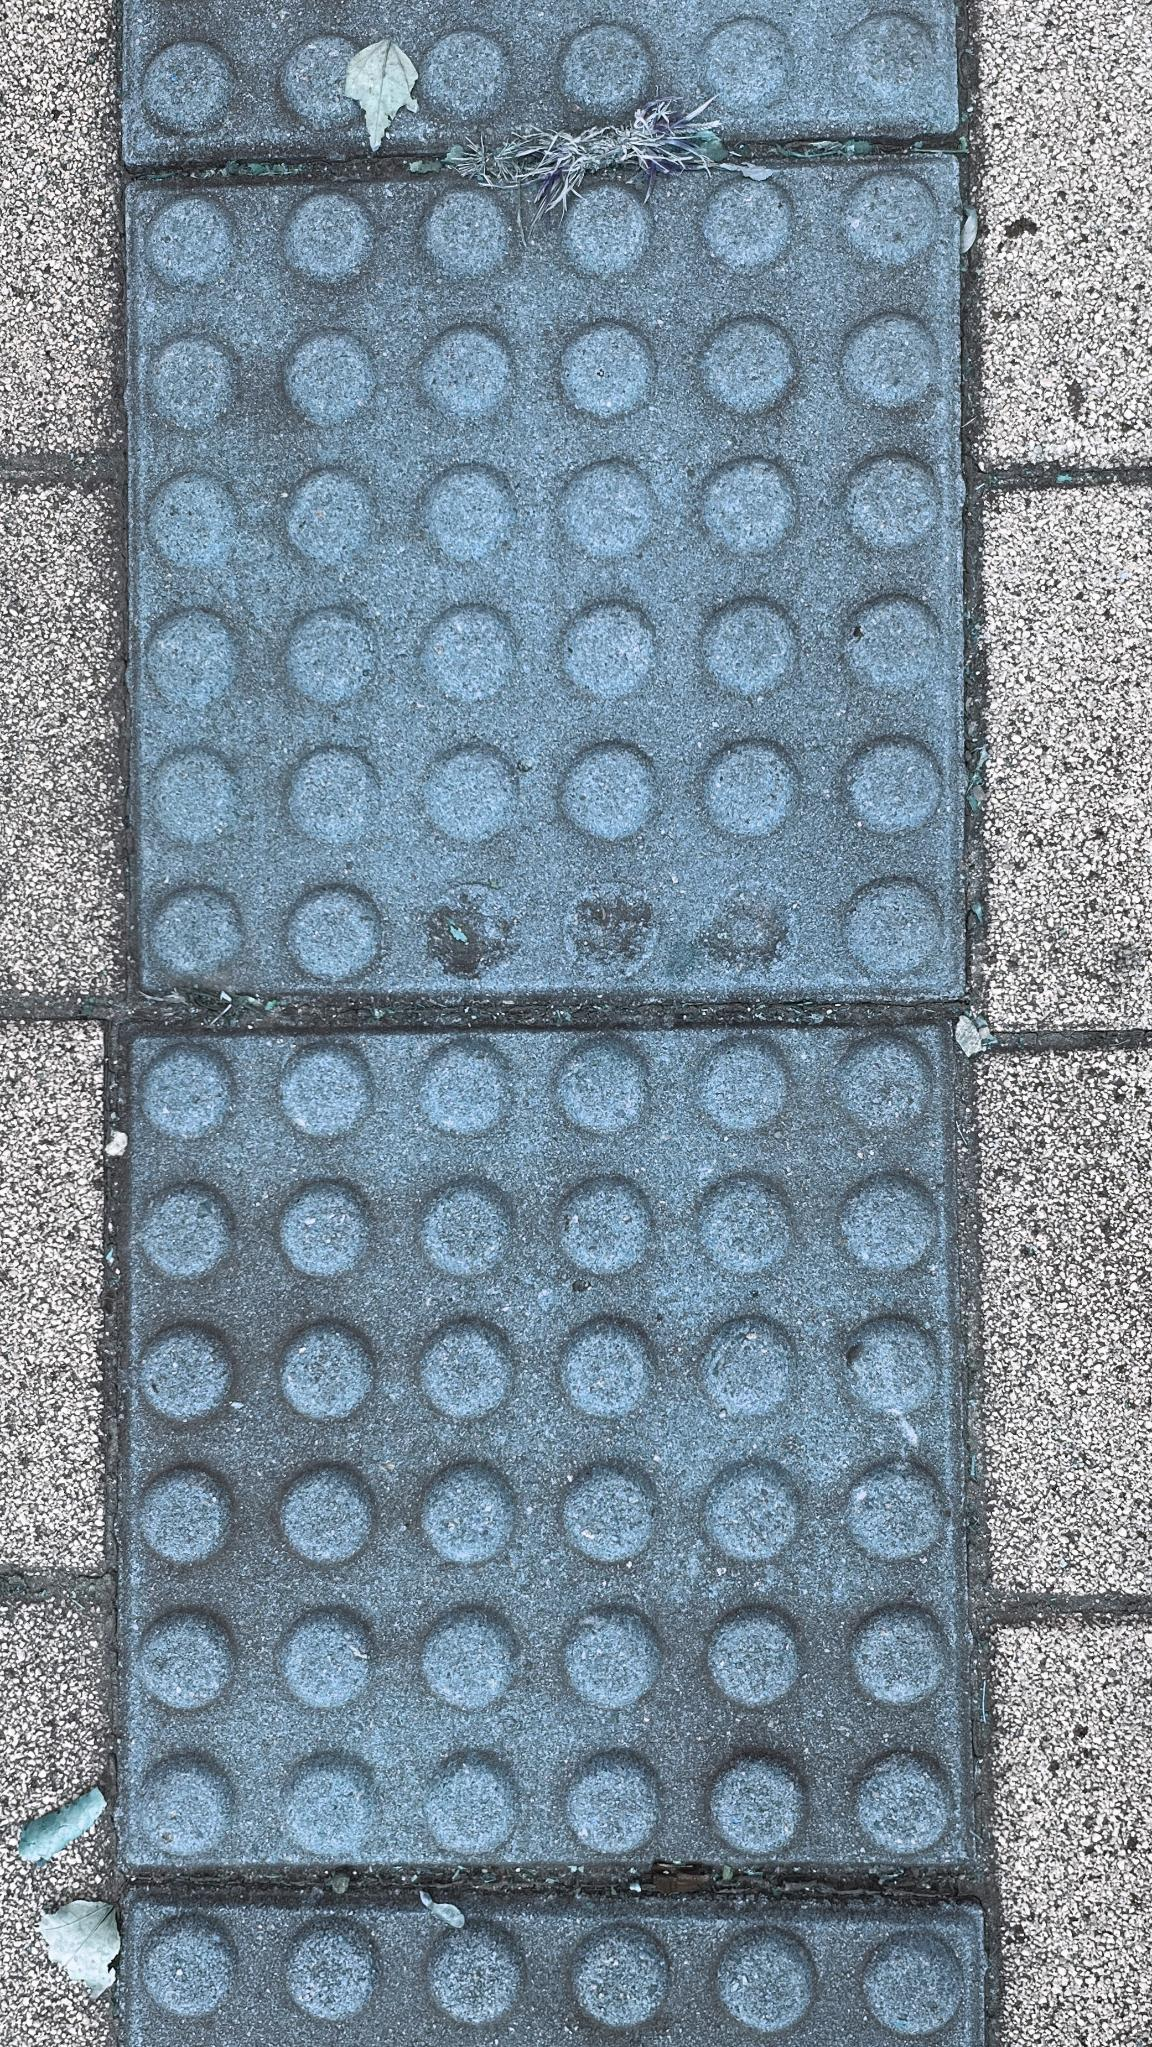Stop block normal: (141, 1039, 958, 1874), (138, 190, 949, 998)
